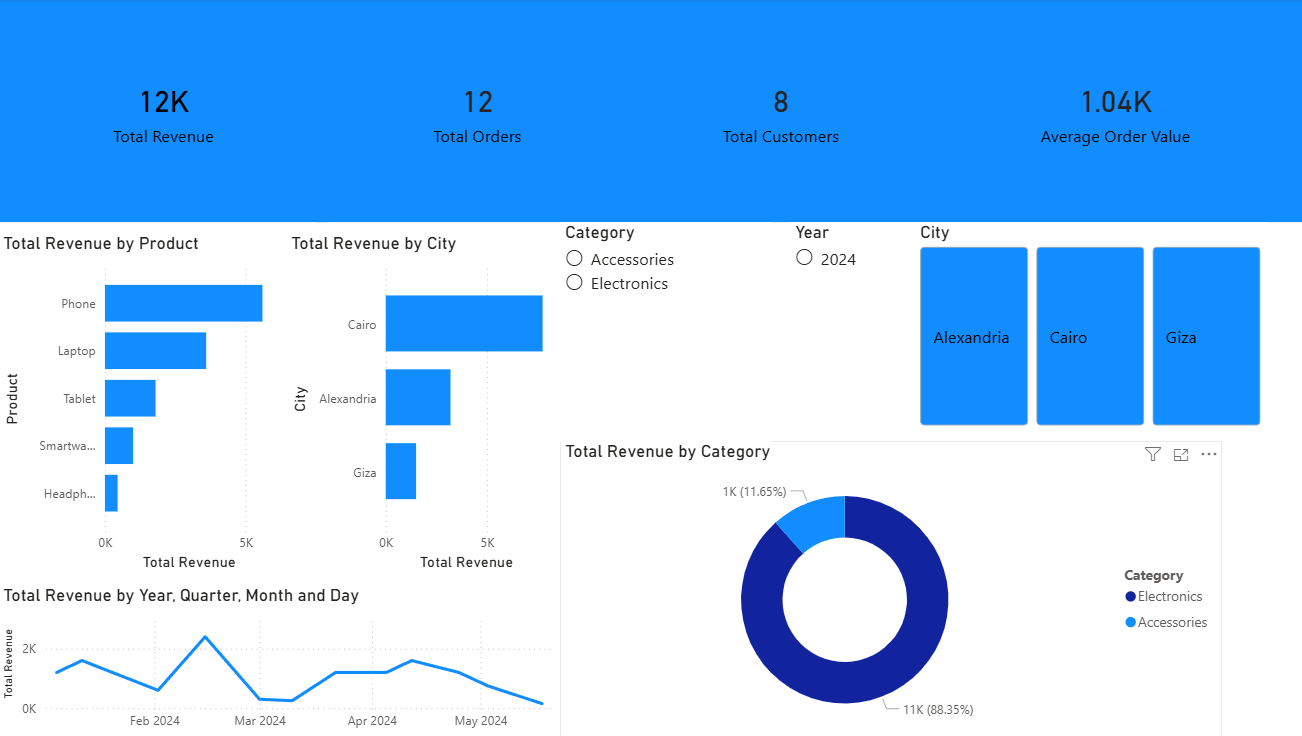

This screenshot's page, from the dashboard's own definition file:
{"tool":"powerbi","page":{"name":"Page 1","canvas":[1280,720],"ordinal":0},"visuals":[{"type":"card","fields":{"Values":["full_data.Total Revenue"]},"box":[9.7,0,321.9,216.9],"z":0},{"type":"card","fields":{"Values":["full_data.Total Orders"]},"box":[320,0,312.2,216.9],"z":1000},{"type":"card","fields":{"Values":["full_data.Total Customers"]},"box":[615.7,0,311.2,216.9],"z":2000},{"type":"card","fields":{"Values":["full_data.Average Order Value"]},"box":[913.3,0,366.7,216.9],"z":3000},{"type":"clusteredBarChart","fields":{"Y":["full_data.Total Revenue"],"Category":["full_data.Product"]},"box":[9.7,227.6,280.1,332.6],"z":4000},{"type":"barChart","fields":{"Y":["full_data.Total Revenue"],"Category":["full_data.City"]},"box":[289.8,227.6,266.5,332.6],"z":5000},{"type":"lineChart","fields":{"Y":["full_data.Total Revenue"],"Category":["full_data.OrderDate.Variation.Date Hierarchy.Year","full_data.OrderDate.Variation.Date Hierarchy.Quarter","full_data.OrderDate.Variation.Date Hierarchy.Month","full_data.OrderDate.Variation.Date Hierarchy.Day"]},"box":[9.7,570,560.2,149.8],"z":6000},{"type":"donutChart","fields":{"Category":["full_data.Category"],"Y":["full_data.Total Revenue"]},"box":[556.4,429.9,643.9,289.8],"z":7000},{"type":"listSlicer","fields":{"Values":["full_data.Category"]},"box":[556.4,216.9,205.2,214],"z":8000},{"type":"listSlicer","fields":{"Values":["full_data.OrderDate.Variation.Date Hierarchy.Year"]},"box":[780.1,216.9,121.6,203.3],"z":9000},{"type":"advancedSlicerVisual","fields":{"Values":["full_data.City"]},"box":[901.6,216.9,343.3,203.3],"z":10000}]}

Visuals, with their boxes in screenshot pixels (x1, y1, x2, y2), scaled from the page's 1280x720 canvas onto the 1302x736 screenshot:
card - full_data.Total Revenue: 10/0/337/222
card - full_data.Total Orders: 326/0/643/222
card - full_data.Total Customers: 626/0/943/222
card - full_data.Average Order Value: 929/0/1301/222
clusteredBarChart - full_data.Total Revenue x full_data.Product: 10/233/295/573
barChart - full_data.Total Revenue x full_data.City: 295/233/566/573
lineChart - full_data.Total Revenue x full_data.OrderDate.Variation.Date Hierarchy.Year: 10/583/580/735
donutChart - full_data.Category x full_data.Total Revenue: 566/439/1221/735
listSlicer - full_data.Category: 566/222/775/440
listSlicer - full_data.OrderDate.Variation.Date Hierarchy.Year: 794/222/917/430
advancedSlicerVisual - full_data.City: 917/222/1266/430
